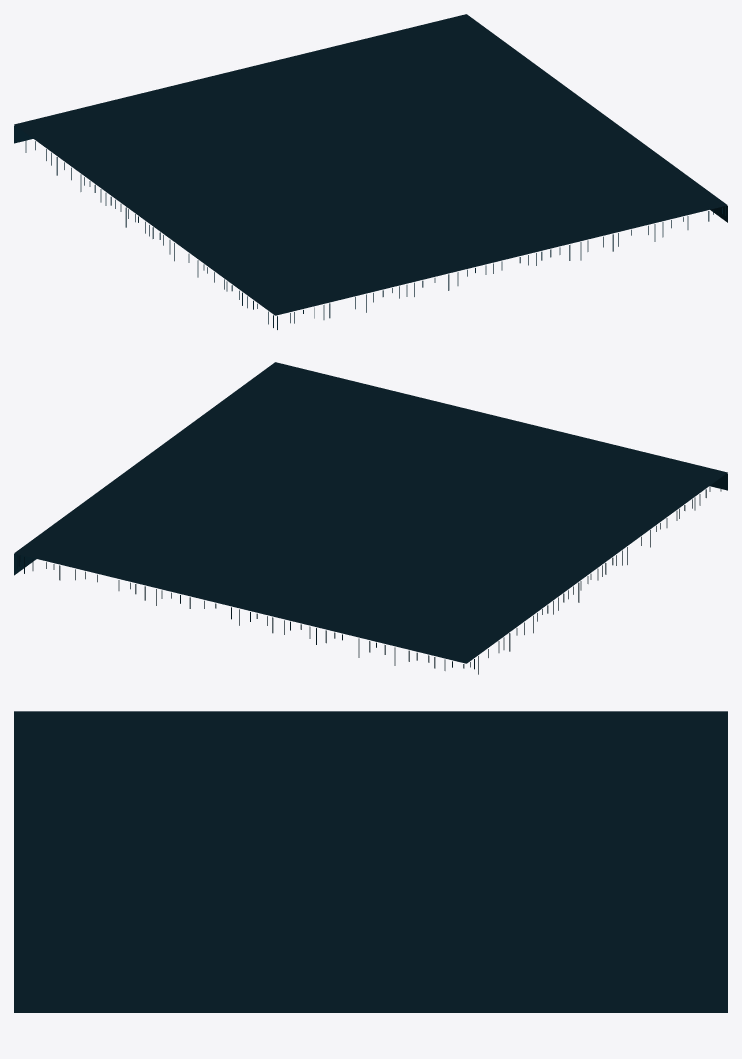
The model's file is floor_v3_16.glb.
3 views of the same model, one above another, from view 1: azimuth 30°, elevation 25°; view 2: azimuth 150°, elevation 25°; view 3: azimuth 270°, elevation 25° (orthographic). The views are drawn at different scales.
Visible parts, largest first — view 1: slab_glass, grid_streaks_hang; view 2: slab_glass, grid_streaks_hang; view 3: slab_glass.
Part boxes in pixels (x1=…): slab_glass: x1=14, y1=14, x2=727, y2=315; grid_streaks_hang: x1=16, y1=126, x2=725, y2=329; slab_glass: x1=14, y1=362, x2=727, y2=663; grid_streaks_hang: x1=17, y1=474, x2=726, y2=674; slab_glass: x1=14, y1=711, x2=727, y2=1012.
Bounding box in the file's own units: 16.03 × 0.7799 × 16.
